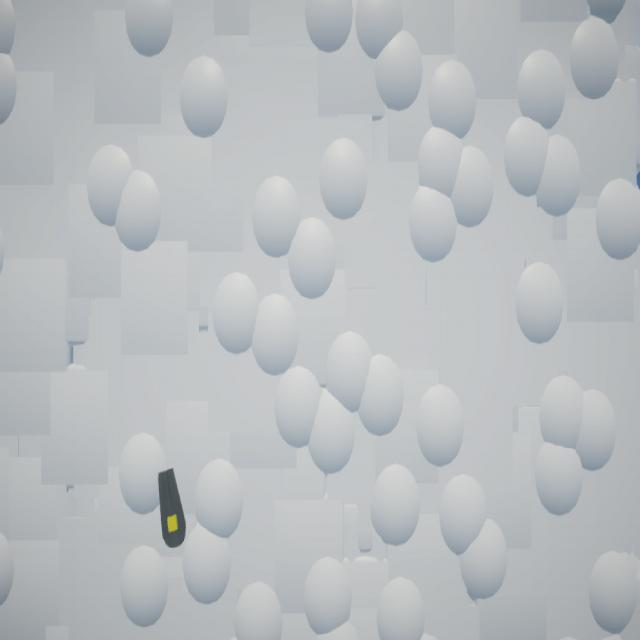handle_folk: (158, 469, 187, 549)
